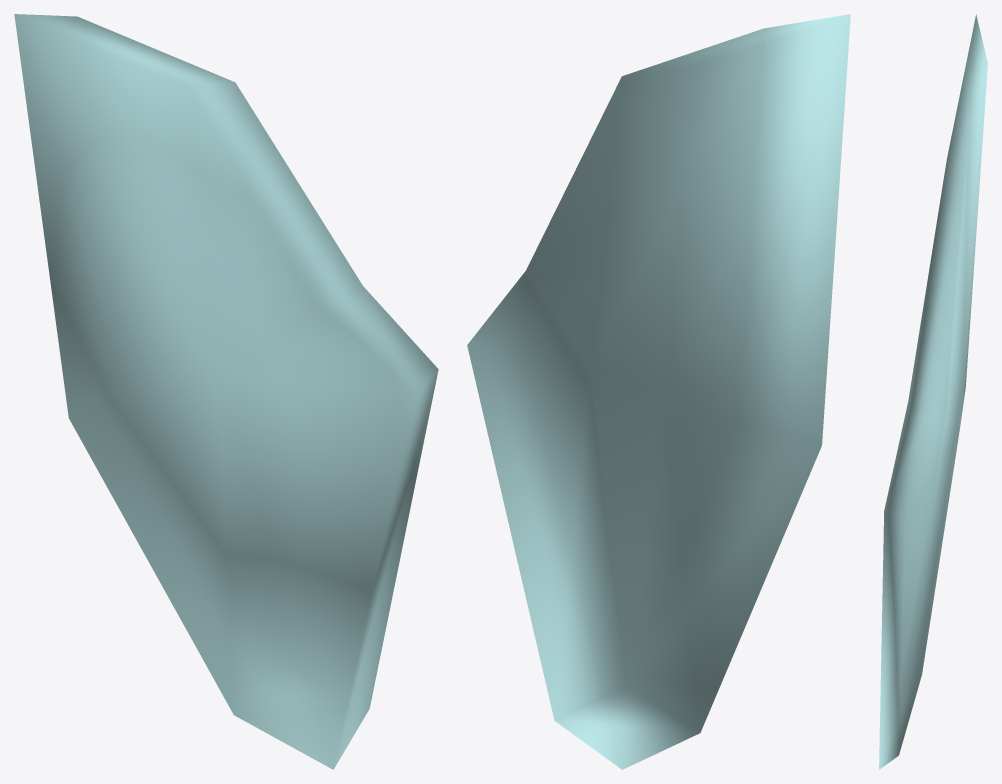
Rendered from Shard_2_S.fbx.
3 views of the same model, side by side, from view 1: azimuth 30°, elevation 25°; view 2: azimuth 150°, elevation 25°; view 3: azimuth 270°, elevation 25° (orthographic). The views are drawn at different scales.
Visible parts, largest first — view 1: Shard_Sharp_2; view 2: Shard_Sharp_2; view 3: Shard_Sharp_2.
Part boxes in pixels (x1=…): Shard_Sharp_2: x1=14, y1=14, x2=438, y2=769; Shard_Sharp_2: x1=467, y1=14, x2=850, y2=769; Shard_Sharp_2: x1=879, y1=14, x2=987, y2=769.
Bounding box in the file's own units: 601 × 1167 × 177.
